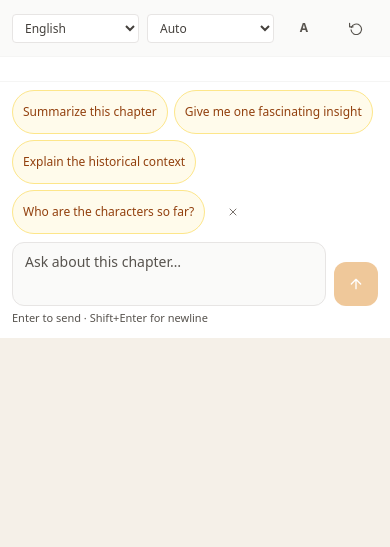
Test case: InsightChat — askQuestion failure (line 235) › shows an error message in chat when askQuestion rejects
The width and height of the screenshot is (390, 547).
Type "What does this mean?" into the text box at x=169, y=274, box [12,242,326,306]
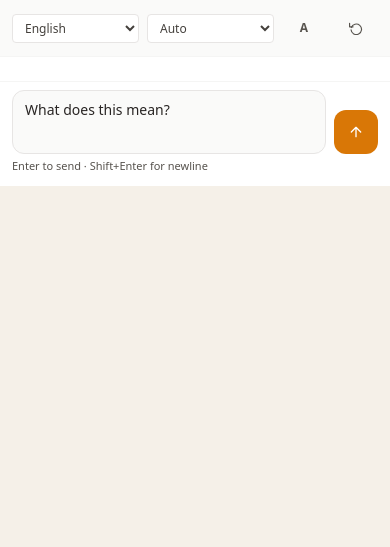
Press Enter in the text box, box [12,90,326,154]
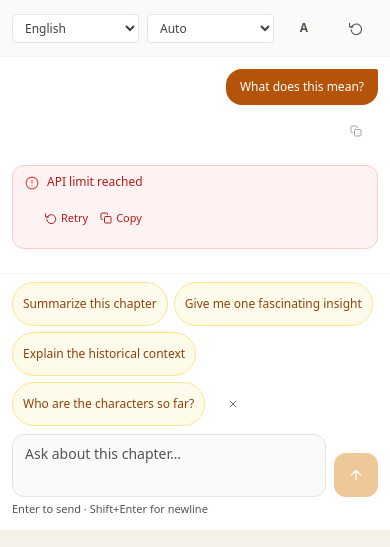
Expected: the text "API limit reached" is shown, [47,174,143,190]
